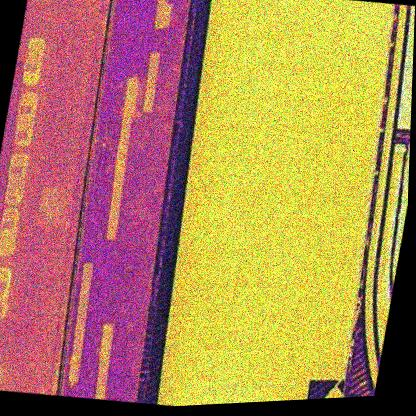Diode: (340, 288, 358, 324), (368, 74, 386, 107), (371, 43, 389, 76), (349, 227, 366, 260), (361, 134, 377, 167), (377, 13, 393, 46), (331, 349, 347, 380), (335, 321, 352, 350)
Hotspot: (327, 287, 347, 323), (341, 194, 360, 228), (324, 41, 344, 73), (316, 9, 334, 42), (364, 104, 381, 137), (353, 196, 370, 229), (208, 6, 225, 39), (357, 166, 373, 198), (268, 377, 286, 401), (158, 378, 174, 405), (280, 377, 297, 401), (256, 377, 271, 402)
Normal: (197, 157, 217, 193), (231, 191, 250, 227), (206, 191, 225, 227), (332, 70, 352, 104), (222, 66, 242, 100), (254, 286, 274, 320), (230, 286, 250, 320), (274, 317, 294, 351), (249, 316, 269, 350), (197, 347, 217, 381), (172, 347, 192, 381), (345, 70, 364, 105), (263, 130, 282, 165), (285, 161, 304, 196), (304, 193, 323, 228), (210, 253, 229, 288), (316, 286, 335, 321), (193, 284, 213, 317), (222, 348, 242, 381), (209, 347, 229, 380), (328, 101, 347, 135), (316, 101, 335, 135), (304, 99, 323, 133), (194, 96, 213, 130), (239, 130, 258, 164), (247, 161, 266, 195), (210, 159, 229, 193), (317, 194, 336, 228), (288, 225, 307, 259), (264, 224, 283, 258), (239, 224, 258, 258), (292, 7, 311, 41), (222, 254, 241, 288), (198, 254, 217, 288), (185, 253, 204, 287), (181, 284, 200, 318), (231, 5, 250, 39), (239, 316, 258, 350), (189, 316, 208, 350), (185, 347, 204, 381), (161, 346, 180, 380), (226, 37, 246, 69), (268, 192, 286, 227), (219, 190, 237, 225), (268, 5, 286, 40), (169, 283, 187, 318), (235, 161, 254, 194), (329, 195, 348, 228), (251, 224, 270, 257), (227, 223, 246, 256), (214, 223, 233, 256), (202, 222, 221, 255), (189, 222, 208, 255), (299, 318, 318, 351), (288, 38, 307, 71), (264, 38, 283, 71), (239, 36, 258, 69), (322, 69, 340, 103), (285, 69, 303, 103), (272, 67, 290, 101), (292, 100, 310, 134), (256, 99, 274, 133), (243, 98, 261, 132), (231, 97, 249, 131), (219, 97, 237, 131), (206, 97, 224, 131), (337, 132, 355, 166), (349, 133, 367, 167), (326, 132, 344, 166), (289, 131, 307, 165), (228, 129, 246, 163), (203, 127, 221, 161), (345, 164, 363, 198), (333, 164, 351, 198), (321, 163, 339, 197), (309, 162, 327, 196), (187, 158, 205, 192), (256, 192, 274, 226), (194, 191, 212, 225), (313, 224, 331, 258), (337, 226, 355, 260), (325, 225, 343, 259), (301, 224, 319, 258), (277, 224, 295, 258), (178, 222, 196, 256), (352, 10, 370, 44), (321, 255, 339, 289), (297, 256, 315, 290), (285, 255, 303, 289), (272, 256, 290, 290), (248, 254, 266, 288), (235, 254, 253, 288), (304, 287, 322, 321), (292, 286, 310, 320), (280, 286, 298, 320), (244, 286, 262, 320), (219, 286, 237, 320), (214, 317, 232, 351), (202, 315, 220, 349), (235, 347, 253, 381), (252, 36, 270, 70), (226, 317, 245, 349), (177, 317, 196, 349), (281, 5, 298, 40), (297, 68, 315, 101), (211, 67, 229, 100), (341, 102, 359, 135), (314, 132, 332, 165), (301, 131, 319, 164), (277, 130, 295, 163), (215, 128, 233, 161), (260, 162, 278, 195), (281, 193, 299, 226), (340, 9, 358, 42), (328, 9, 346, 42), (333, 256, 351, 289), (308, 256, 326, 289), (260, 255, 278, 288), (256, 7, 274, 40), (268, 287, 286, 320), (206, 285, 224, 318), (219, 6, 237, 39), (287, 318, 305, 351), (283, 348, 301, 381), (361, 42, 379, 75), (301, 39, 319, 72), (276, 38, 294, 71), (183, 190, 200, 224), (247, 68, 265, 100), (312, 319, 330, 351), (263, 318, 281, 350), (308, 347, 326, 379), (259, 348, 277, 380), (247, 348, 265, 380), (337, 40, 355, 72), (215, 37, 233, 69), (358, 73, 375, 106), (260, 67, 277, 100), (235, 68, 252, 101), (281, 99, 298, 132), (268, 99, 285, 132), (191, 127, 208, 160), (223, 160, 240, 193), (244, 193, 261, 226), (313, 39, 330, 72), (294, 193, 310, 228), (352, 104, 370, 135), (296, 348, 314, 379), (349, 42, 367, 73), (252, 131, 269, 163), (297, 163, 314, 195), (273, 162, 290, 194), (365, 11, 382, 43), (174, 253, 191, 285), (244, 7, 261, 39), (166, 316, 183, 348), (199, 67, 217, 97), (320, 348, 337, 379), (272, 348, 289, 379), (204, 37, 221, 68), (310, 69, 326, 101), (345, 258, 361, 290), (305, 9, 321, 41), (325, 321, 342, 350), (182, 377, 199, 405), (170, 378, 187, 405), (194, 378, 210, 405), (219, 378, 235, 404), (207, 378, 223, 404), (291, 376, 308, 400), (243, 379, 259, 403), (231, 379, 246, 403)
